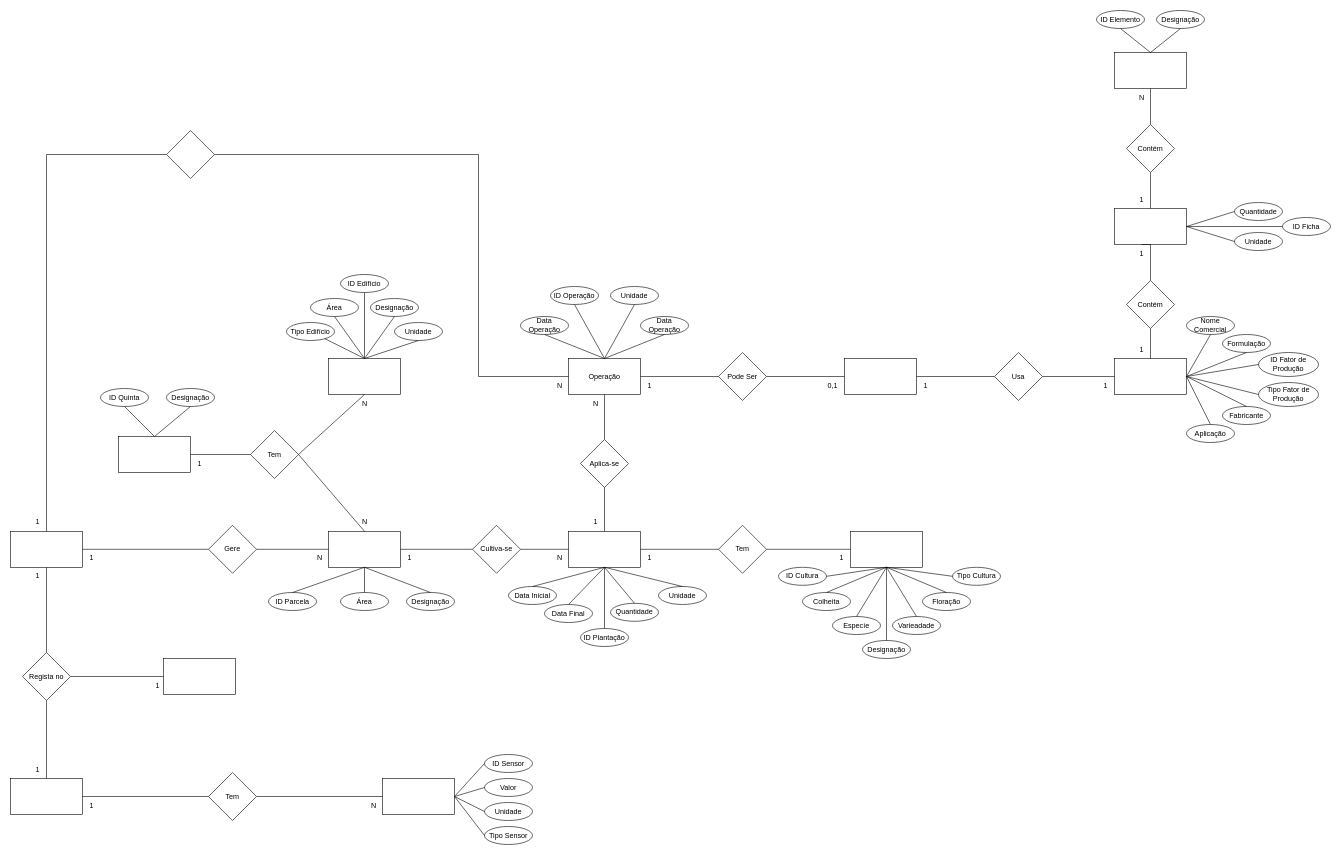
The diagram is 1341 pixels wide and 855 high, and some of its shapes have lost their labels. Each missing label, with the centre of its shape:
Caderno de Campo: (199,676)
Cultura: (886,549)
Edíficio: (364,376)
Elemento: (1150,70)
Estação Meteorológica: (46,796)
Executa: (190,154)
Fator de Produção: (1150,376)
Fertilização: (880,376)
Ficha Técnica: (1150,226)
Gestor Agrícola: (46,549)
Parcela: (364,549)
Plantação: (604,549)
Quinta: (154,454)
Sensor: (418,796)
